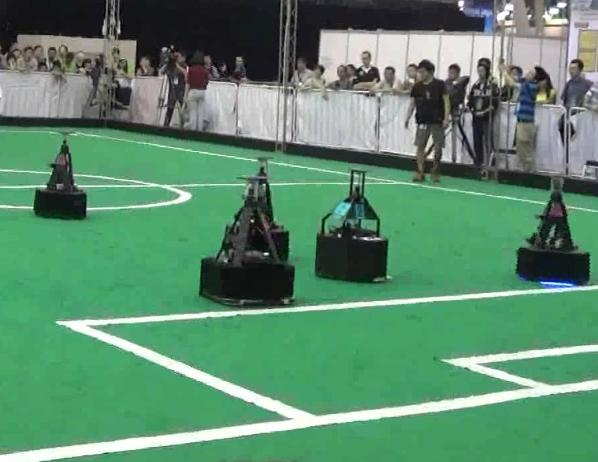robot: (194, 151, 302, 309), (513, 167, 595, 289), (315, 166, 395, 284), (34, 126, 89, 220)
